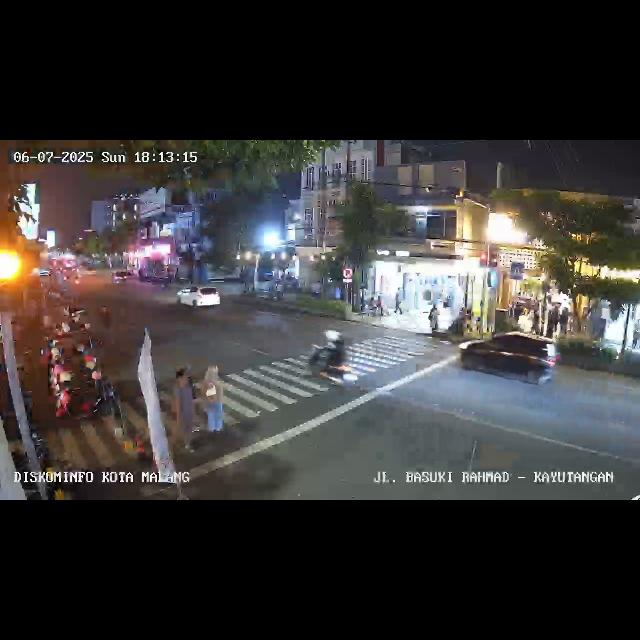car: (456, 332, 560, 384), (176, 282, 222, 312), (112, 268, 130, 284)
motorcycle: (300, 328, 362, 390)
person: (200, 364, 226, 454), (173, 368, 197, 464), (547, 301, 559, 339), (559, 302, 571, 338), (428, 303, 439, 335), (392, 288, 402, 316), (532, 300, 540, 332), (632, 321, 640, 352)
